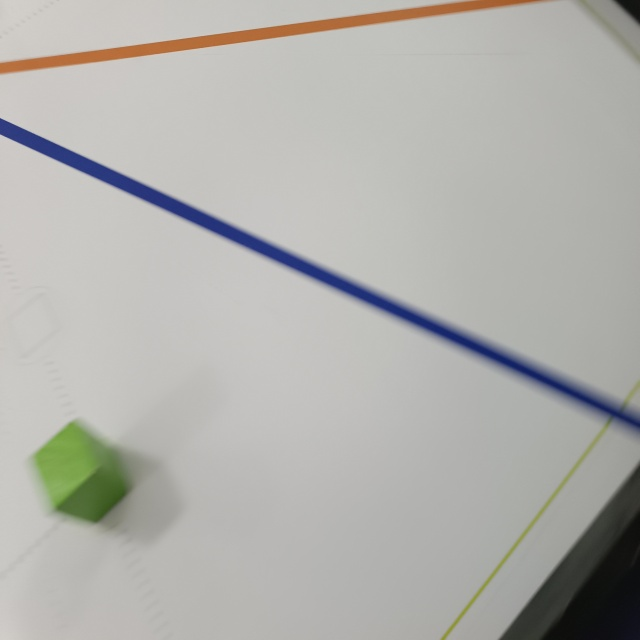blue line: (0, 117, 636, 435)
green rectangular prism: (27, 412, 134, 527)
orange line: (0, 0, 547, 77)
